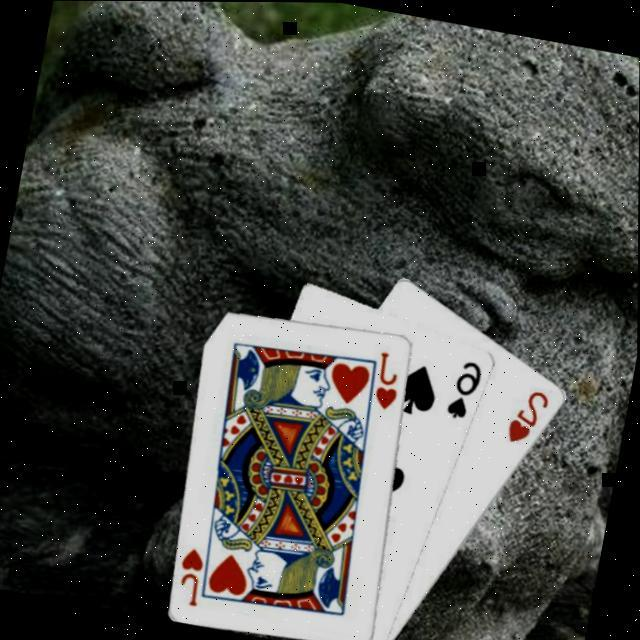2H: (504, 380, 556, 448)
6S: (445, 352, 488, 422)
JH: (370, 345, 409, 411), (173, 542, 211, 606)
